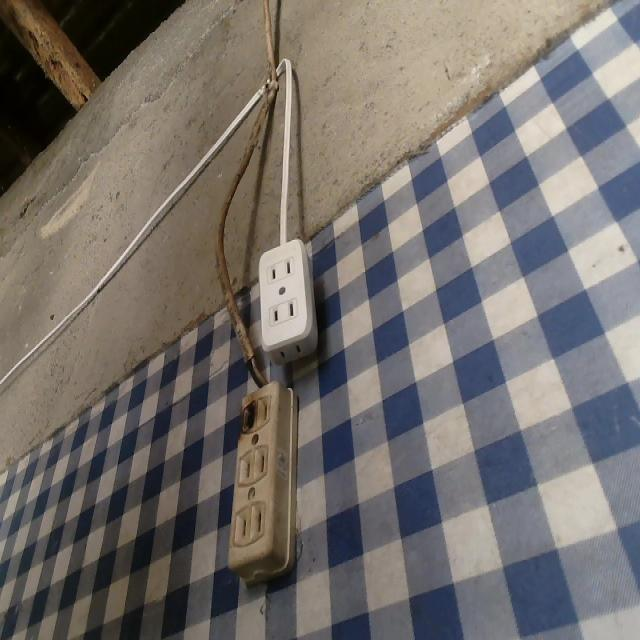-: (234, 393, 260, 438)
